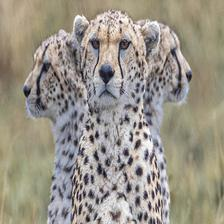Cheetah: (74, 10, 161, 224), (115, 13, 195, 224), (22, 25, 99, 224)
